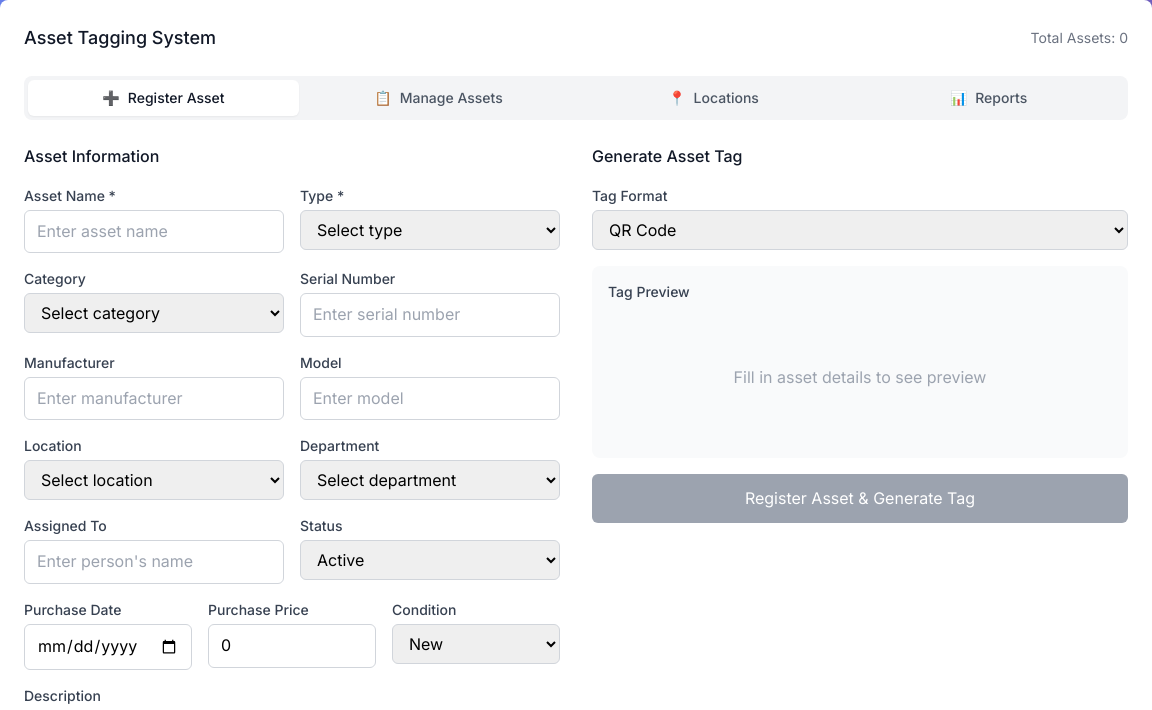
Test case: AssetTaggingSystem › shows locations management
Click the button "📍Locations": x=714, y=98 [578,80,849,116]
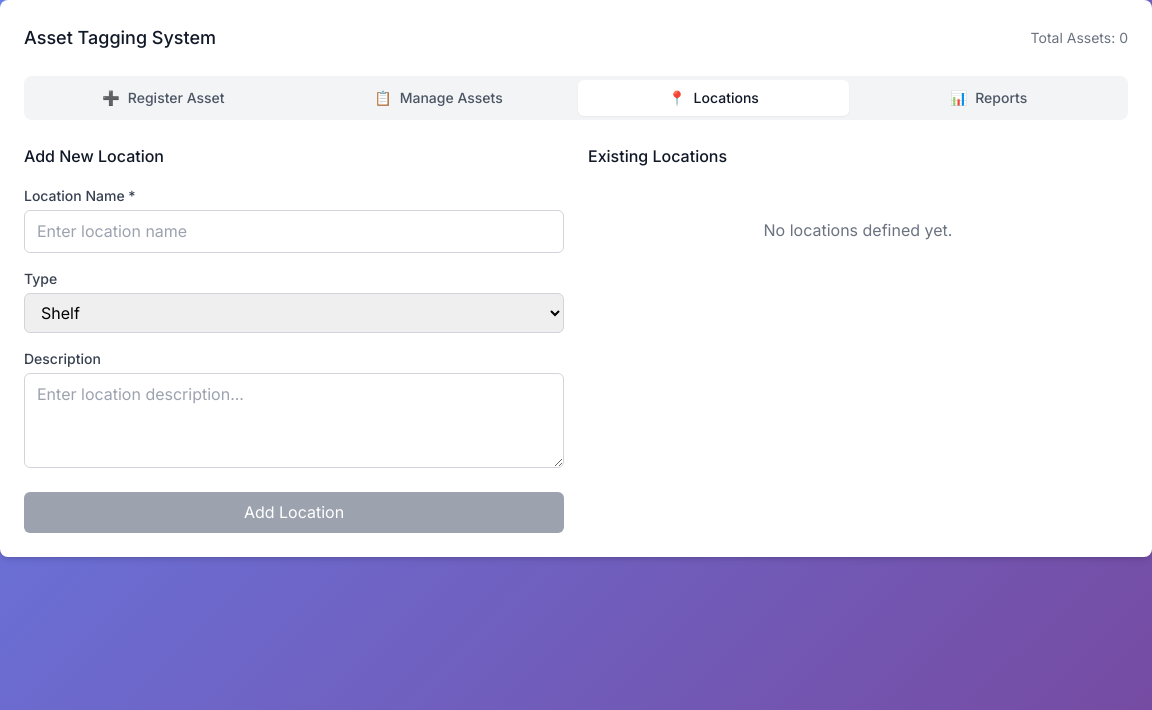
Now the heading "Add New Location" is shown, box [24,146,164,166]
Now the heading "Existing Locations" is shown, box [588,146,727,166]
Now the field with placeholder "Enter location name" is shown, box [24,210,564,253]
